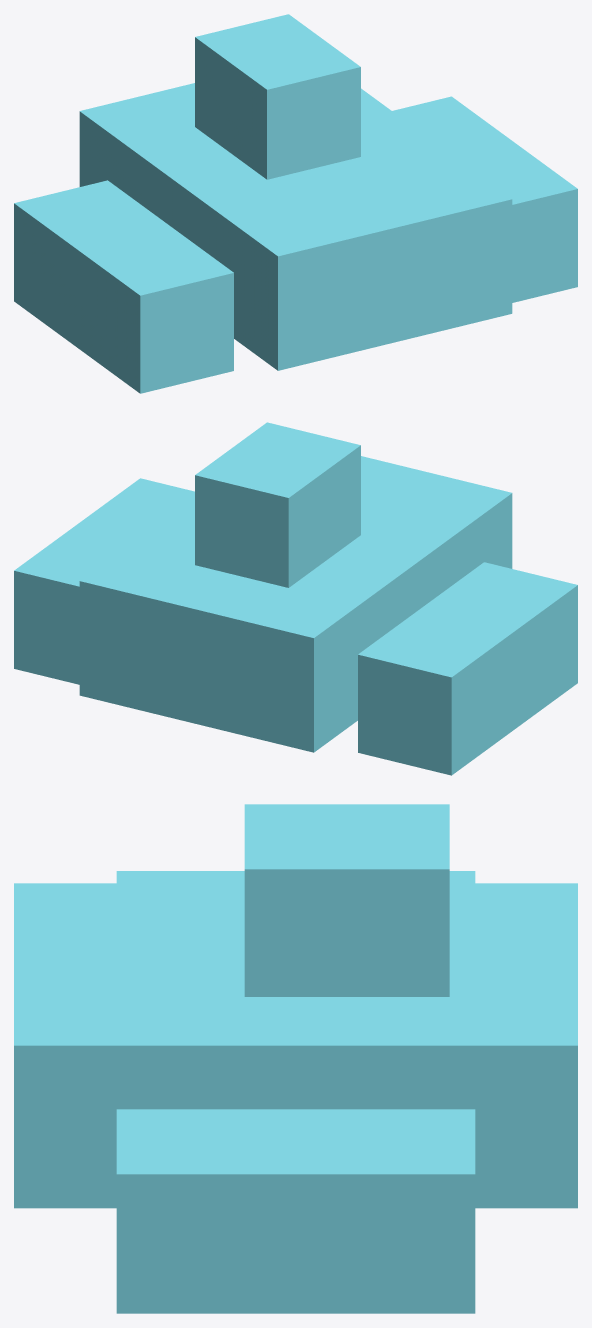
The model's file is scout.gltf.
3 renders of one model, top to bottom at view 1: azimuth 30°, elevation 25°; view 2: azimuth 150°, elevation 25°; view 3: azimuth 270°, elevation 25°, orthographic. The views are drawn at different scales.
Visible parts, largest first — view 1: scout; view 2: scout; view 3: scout.
Part boxes in pixels (x1,y1,x2,y2): scout: [14, 14, 577, 393]; scout: [14, 422, 577, 775]; scout: [14, 804, 577, 1313].
Size of the model in its own units: 1.4 by 0.7 by 1.1.
